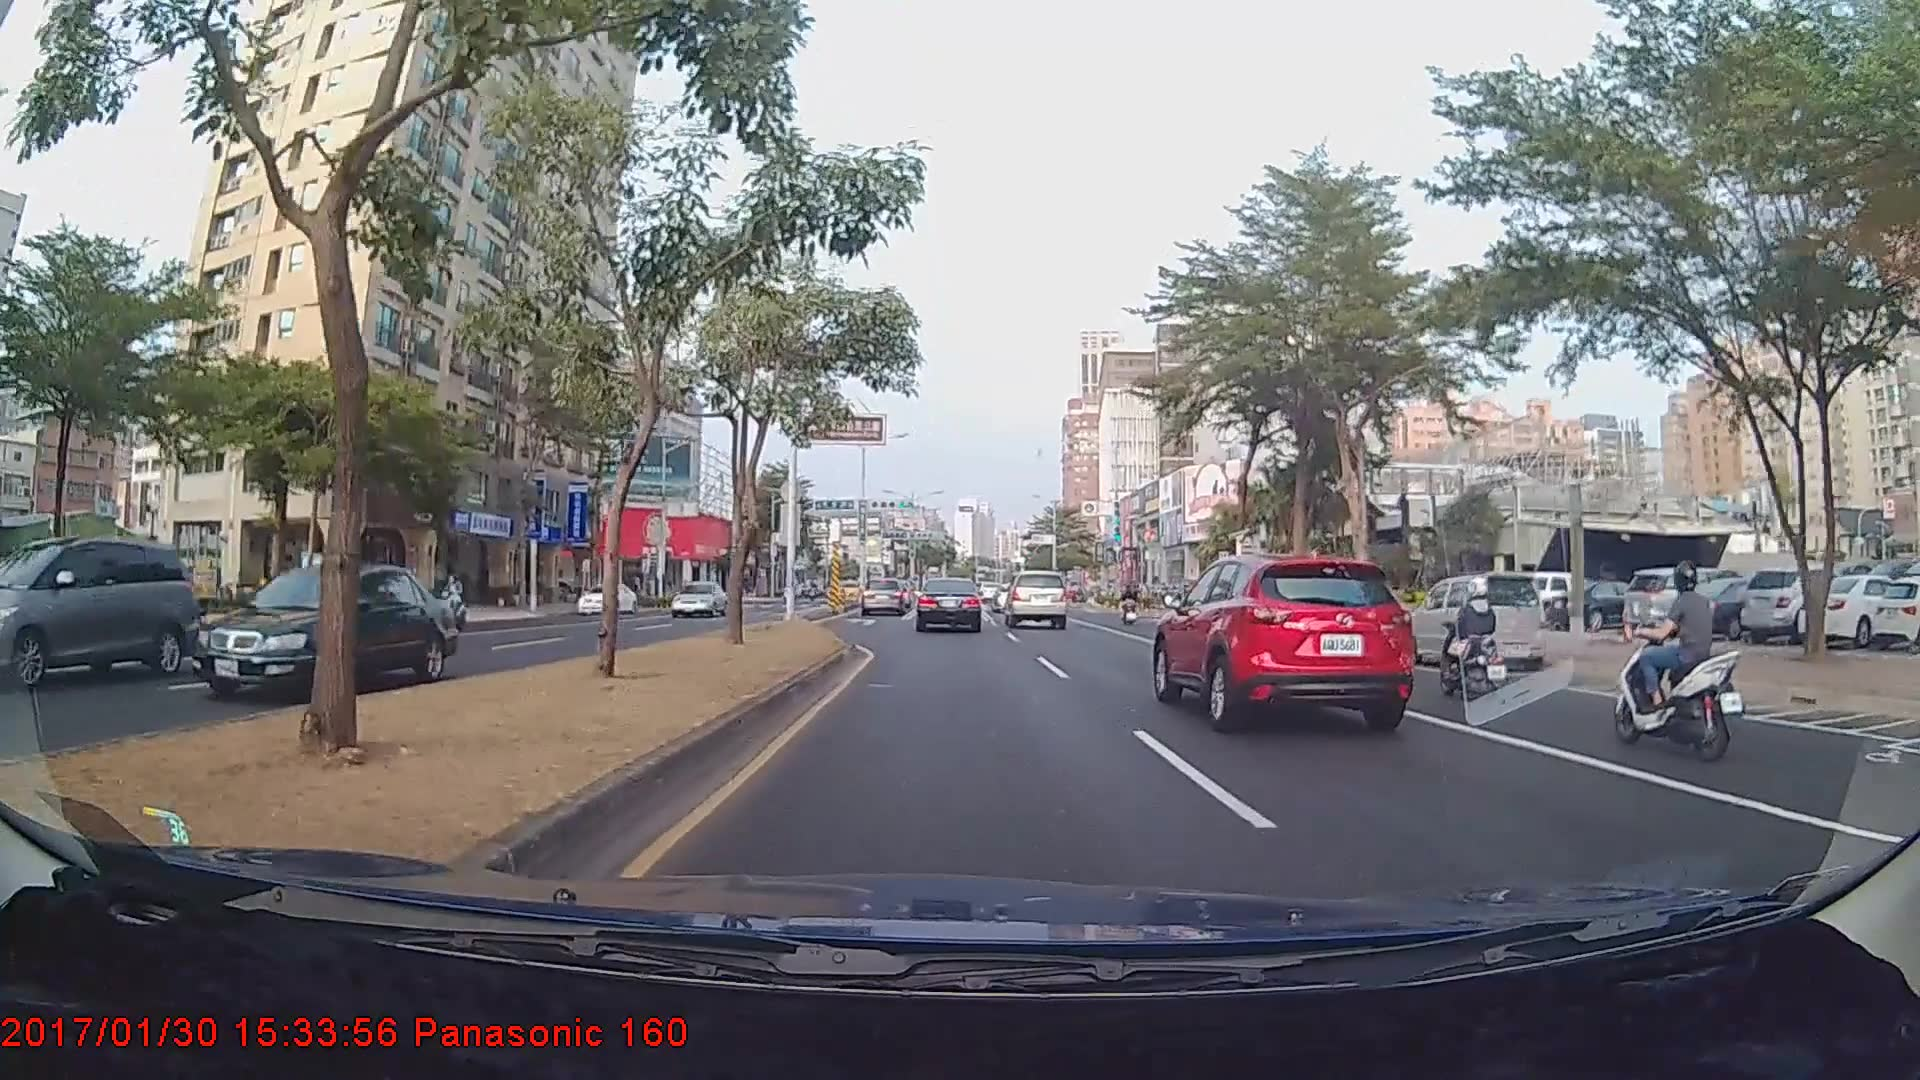rider: (1605, 555, 1752, 761), (1428, 572, 1524, 710), (1122, 587, 1146, 631)
vehicle: (1152, 547, 1413, 728), (186, 561, 459, 697), (0, 538, 198, 687), (1402, 571, 1547, 669), (1619, 566, 1746, 635), (1002, 568, 1069, 629), (914, 576, 982, 633), (576, 579, 635, 615), (859, 576, 910, 617), (669, 582, 728, 616)
